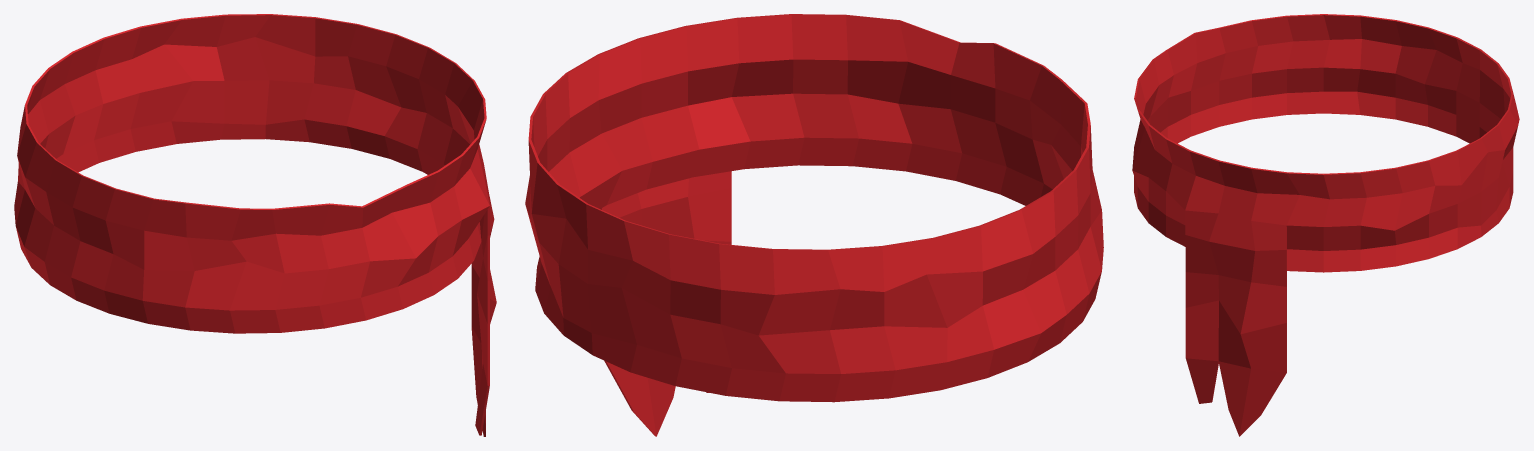
Rendered from Bandage.fbx.
The picture shows the model from 3 angles, left to right: view 1: azimuth 30°, elevation 25°; view 2: azimuth 150°, elevation 25°; view 3: azimuth 270°, elevation 25°; orthographic projection. The views are drawn at different scales.
Parts seen in each view (by area): view 1: Circle; view 2: Circle; view 3: Circle.
Part boxes in pixels (box(x1,y1,x2,y2)): Circle: box(14, 14, 496, 436); Circle: box(525, 14, 1103, 436); Circle: box(1132, 14, 1519, 436).
Size of the model in its own units: 207 by 161 by 206.
